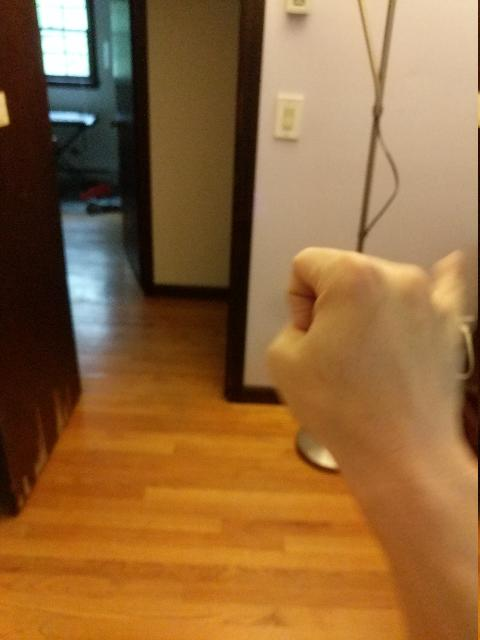J: (252, 238, 480, 454)
